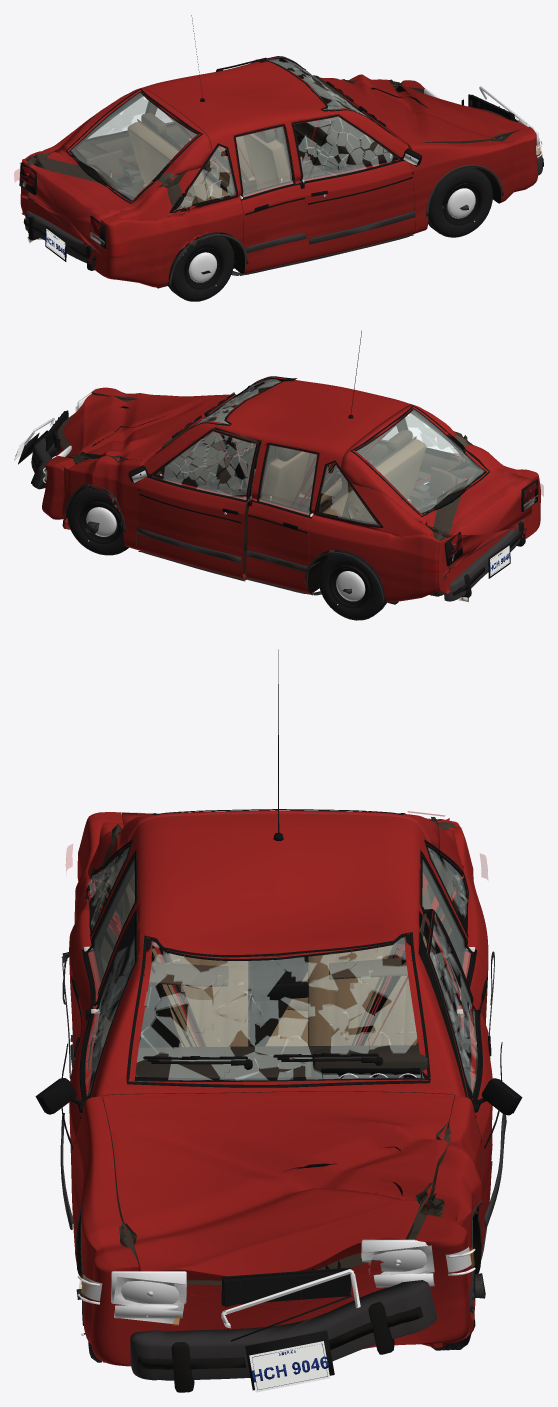
Rendered from hatchback85_front_corner_d1_lod1.glb.
3 views of the same model, one above another, from view 1: azimuth 30°, elevation 25°; view 2: azimuth 150°, elevation 25°; view 3: azimuth 270°, elevation 25° (orthographic). The views are drawn at different scales.
Visible parts, largest first — view 1: Body, Interior, Hatch, Door_FR, Glass_Hatch, Hood, Door_RR, Glass, Wheel_FR_mesh, Glass_FR, Wheel_RR_mesh, Glass_RR (+7 smaller); view 2: Body, Interior, Hatch, Door_FL, Glass_Hatch, Hood, Door_RL, Glass_FL, Wheel_RL_mesh, Glass, Glass_RL, Wheel_FL_mesh (+8 smaller); view 3: Body, Hood, Glass, Interior, Ends, Bumper_F, Door_FL, Trim, Door_FR, Trim_FL, Glass_FL, Trim_FR (+7 smaller).
Boxes of the visible parts, x1,y1,x2,y2 form: Body: (20,57,537,287); Interior: (88,75,390,232); Hatch: (27,88,212,253); Door_FR: (291,114,415,259); Glass_Hatch: (66,88,202,203); Hood: (323,74,527,145); Door_RR: (233,123,307,273); Glass: (88,56,395,212); Wheel_FR_mesh: (428,167,492,237); Glass_FR: (292,114,399,182); Wheel_RR_mesh: (167,232,234,301); Glass_RR: (233,127,295,197); Body: (42,377,540,602); Interior: (160,384,465,552); Hatch: (341,404,531,569); Door_FL: (137,427,261,580); Glass_Hatch: (350,405,489,516); Hood: (63,394,232,461); Door_RL: (245,442,319,593); Glass_FL: (153,428,258,501); Wheel_RL_mesh: (318,550,386,620); Glass: (156,376,462,526); Glass_RL: (257,445,319,515); Wheel_FL_mesh: (67,486,128,555); Body: (69,812,488,1366); Hood: (102,1091,454,1280); Glass: (86,844,467,1087); Interior: (122,883,433,1078); Ends: (77,1239,475,1392); Bumper_F: (130,1280,436,1392); Door_FL: (418,909,492,1251); Trim: (61,649,494,1325); Door_FR: (69,908,138,1249); Trim_FL: (427,910,522,1260); Glass_FL: (425,910,477,1092); Trim_FR: (35,909,137,1269).
Size of the model in its own units: 4.37 by 2.14 by 1.93.
33 materials, 5 textured.
